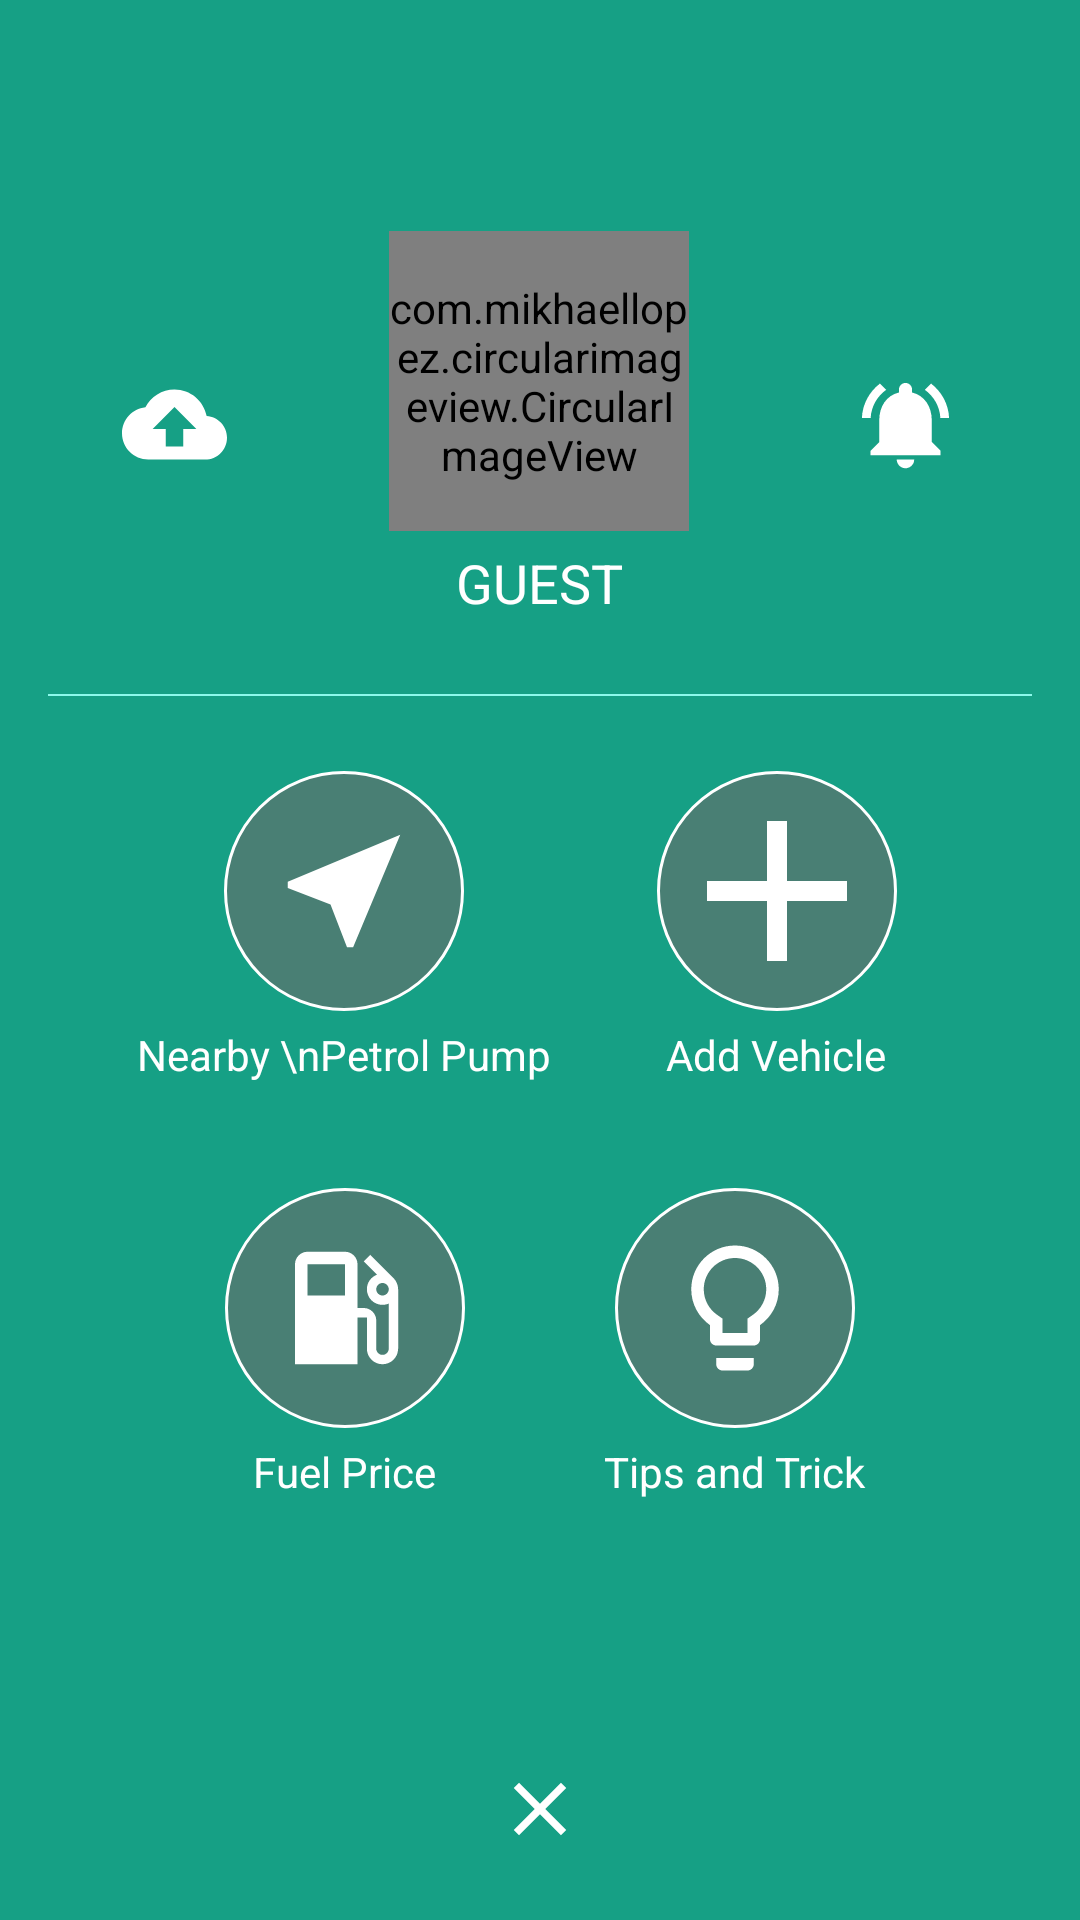

Named icons in this screenshot (1080x1920) and their bounding boxes, {"left": x1, "top": y1, "right": x2, "bottom": y2}:
close: {"left": 514, "top": 1783, "right": 566, "bottom": 1835}
cloud upload: {"left": 122, "top": 389, "right": 227, "bottom": 460}
lightbulb: {"left": 615, "top": 1188, "right": 855, "bottom": 1428}
near me: {"left": 224, "top": 771, "right": 464, "bottom": 1011}
notifications: {"left": 862, "top": 383, "right": 949, "bottom": 469}
